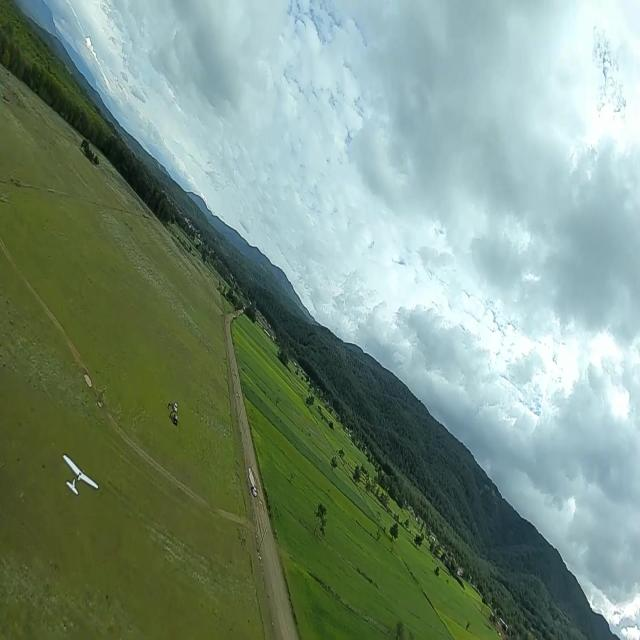iha: (0, 452, 36, 496)
